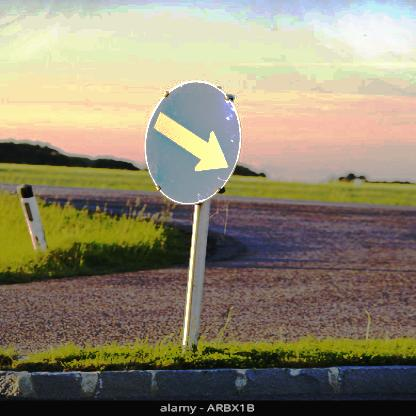Keep right: (148, 79, 249, 213)
